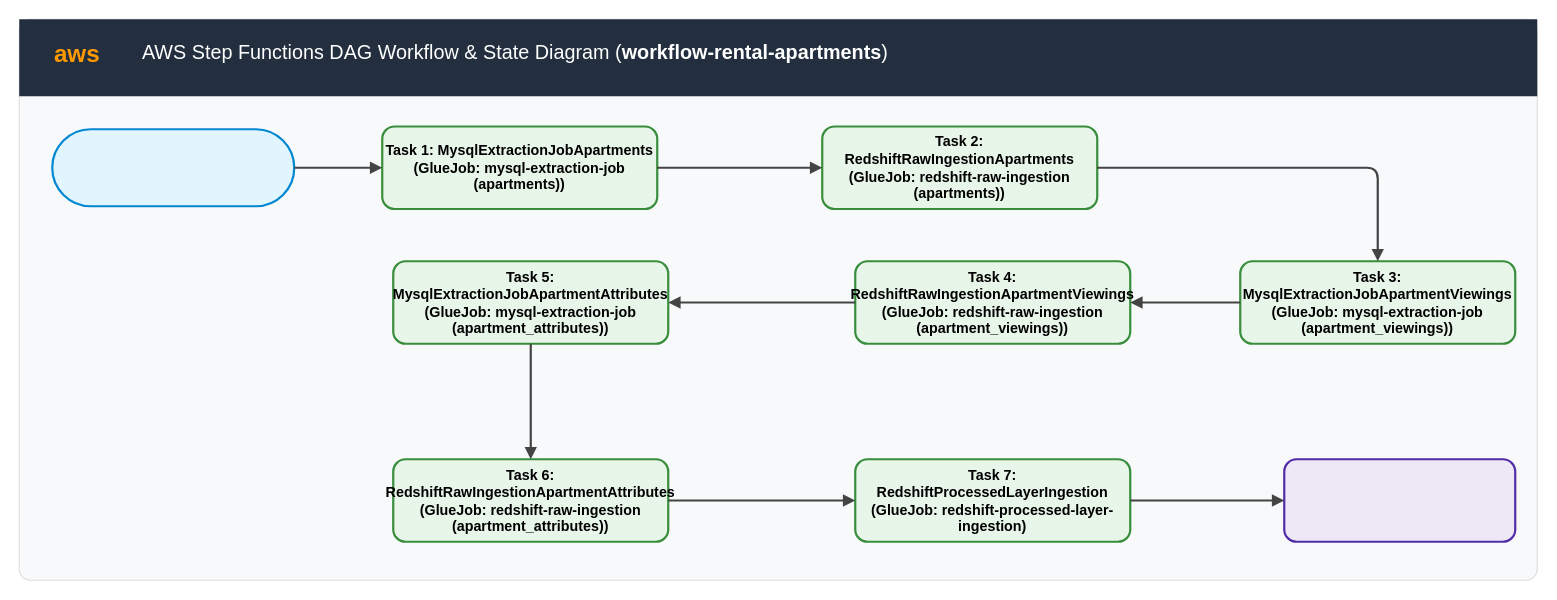
This 1557x600 diagram has some shape labels left out. Here are the shapes that lost their labels. From the top down, the box of each, then its label:
(51, 128, 295, 207): Start Workflow Execution (workflow-rental-apartments)
(1283, 458, 1516, 542): Workflow Execution Complete (Success)
